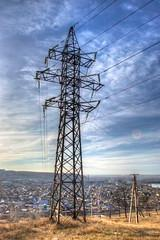power_tower: (35, 24, 99, 226)
